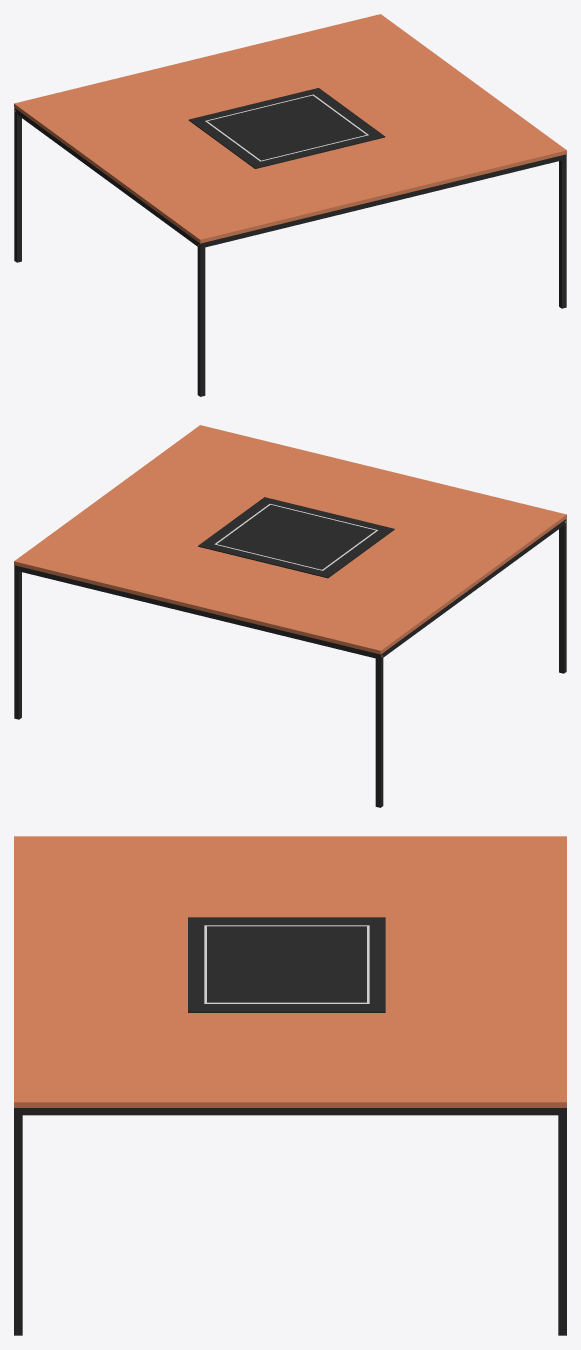
Rendered from table.fbx.
3 renders of one model, top to bottom at view 1: azimuth 30°, elevation 25°; view 2: azimuth 150°, elevation 25°; view 3: azimuth 270°, elevation 25°, orthographic. The views are drawn at different scales.
Parts seen in each view (by area): view 1: Table, Table_Cloth; view 2: Table, Table_Cloth; view 3: Table, Table_Cloth.
Part boxes in pixels (left/top/right/bottom): Table: left=14, top=14, right=566, bottom=396; Table_Cloth: left=188, top=88, right=385, bottom=168; Table: left=14, top=425, right=566, bottom=807; Table_Cloth: left=198, top=497, right=394, bottom=578; Table: left=14, top=836, right=566, bottom=1335; Table_Cloth: left=188, top=917, right=385, bottom=1012.
Bounding box in the file's own units: 2.11 × 0.8686 × 1.85.
